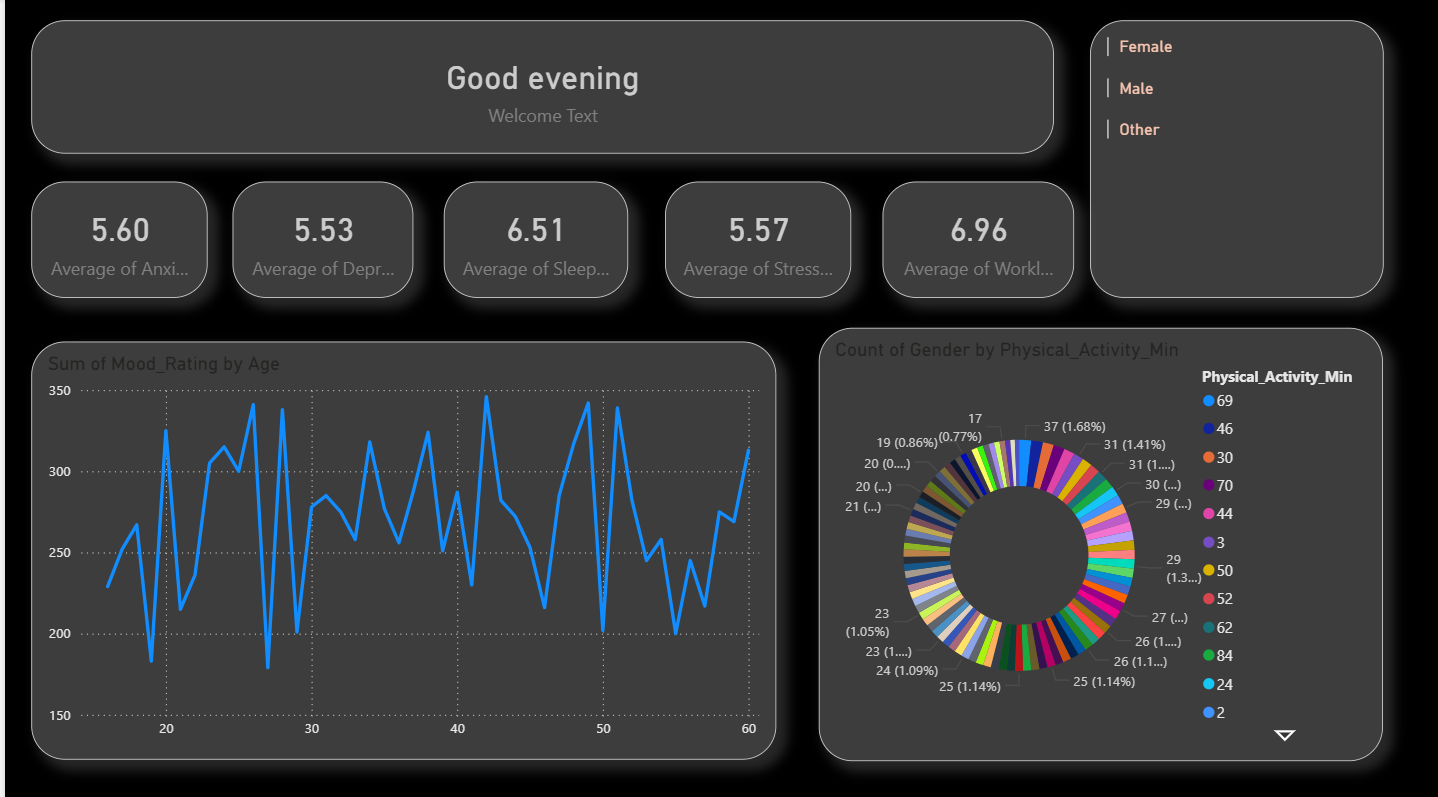

Layout of this report page (visuals, bound fields, positions):
{"tool":"powerbi","page":{"name":"Page 1","canvas":[1280,720],"ordinal":0},"visuals":[{"type":"card","fields":{"Values":["Mental Health Analysis.Welcome Text"]},"box":[23.3,19.2,913.9,119.4],"z":0},{"type":"card","fields":{"Values":["Avg(Mental Health Analysis.Anxiety_Score)"]},"box":[23.3,163.3,157.8,104.3],"z":1000},{"type":"card","fields":{"Values":["Avg(Mental Health Analysis.Depression_Score)"]},"box":[203.1,163.3,161.9,104.3],"z":2000},{"type":"card","fields":{"Values":["Avg(Mental Health Analysis.Workload_Hours)"]},"box":[783.5,163.3,171.5,104.3],"z":3000},{"type":"card","fields":{"Values":["Avg(Mental Health Analysis.Sleep_Hours)"]},"box":[392.5,163.3,164.7,104.3],"z":4000},{"type":"card","fields":{"Values":["Avg(Mental Health Analysis.Stress_Level)"]},"box":[590.1,163.3,166,104.3],"z":5000},{"type":"multiRowCard","fields":{"Values":["Mental Health Analysis.Gender"]},"box":[968.8,19.2,262.1,248.4],"z":6000},{"type":"lineChart","fields":{"Category":["Mental Health Analysis.Age"],"Y":["Sum(Mental Health Analysis.Mood_Rating)"]},"box":[23.3,306,665.5,373.2],"z":7000},{"type":"donutChart","fields":{"Category":["Mental Health Analysis.Physical_Activity_Min"],"Y":["CountNonNull(Mental Health Analysis.Gender)"]},"box":[727.3,293.7,503.6,387],"z":8000}]}

Visuals, with their boxes in screenshot pixels (x1, y1, x2, y2), scaled from the page's 1280x720 canvas onto the 1438x797 screenshot:
card - Mental Health Analysis.Welcome Text: (26,21,1053,153)
card - Avg(Mental Health Analysis.Anxiety_Score): (26,181,203,296)
card - Avg(Mental Health Analysis.Depression_Score): (228,181,410,296)
card - Avg(Mental Health Analysis.Workload_Hours): (880,181,1073,296)
card - Avg(Mental Health Analysis.Sleep_Hours): (441,181,626,296)
card - Avg(Mental Health Analysis.Stress_Level): (663,181,849,296)
multiRowCard - Mental Health Analysis.Gender: (1088,21,1383,296)
lineChart - Mental Health Analysis.Age x Sum(Mental Health Analysis.Mood_Rating): (26,339,774,752)
donutChart - Mental Health Analysis.Physical_Activity_Min x CountNonNull(Mental Health Analysis.Gender): (817,325,1383,753)
